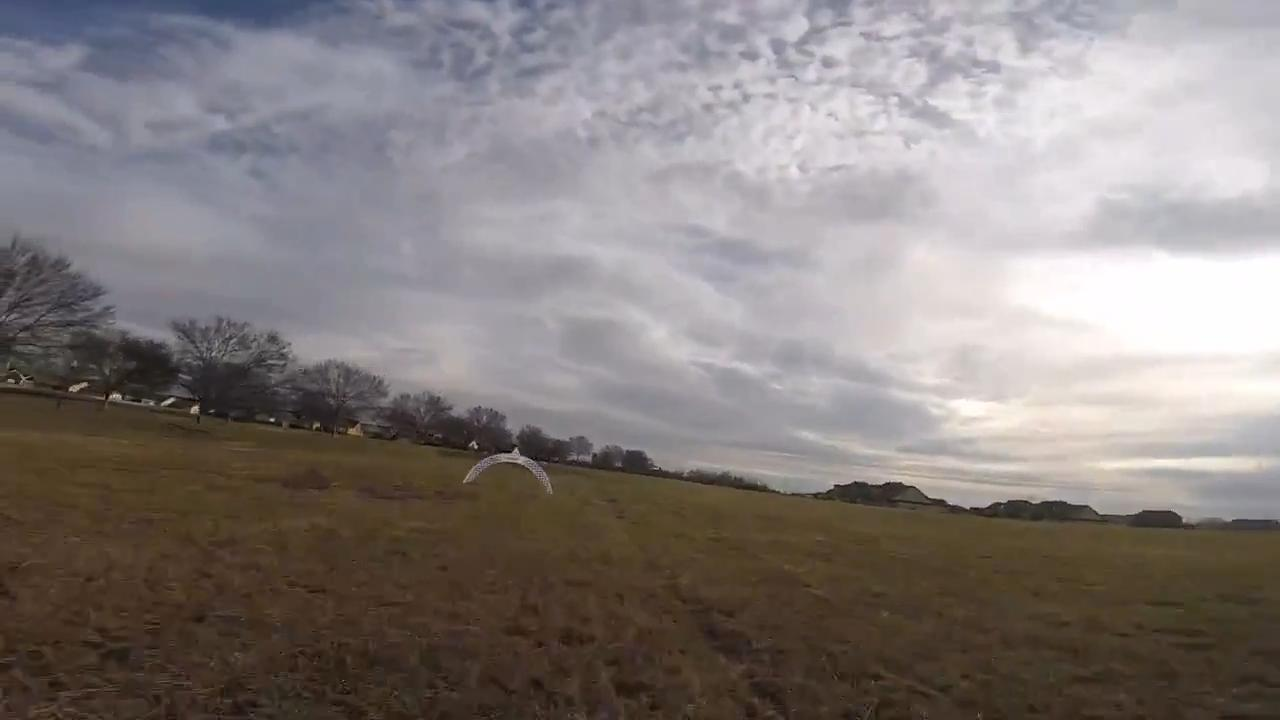gate: (460, 450, 553, 498)
